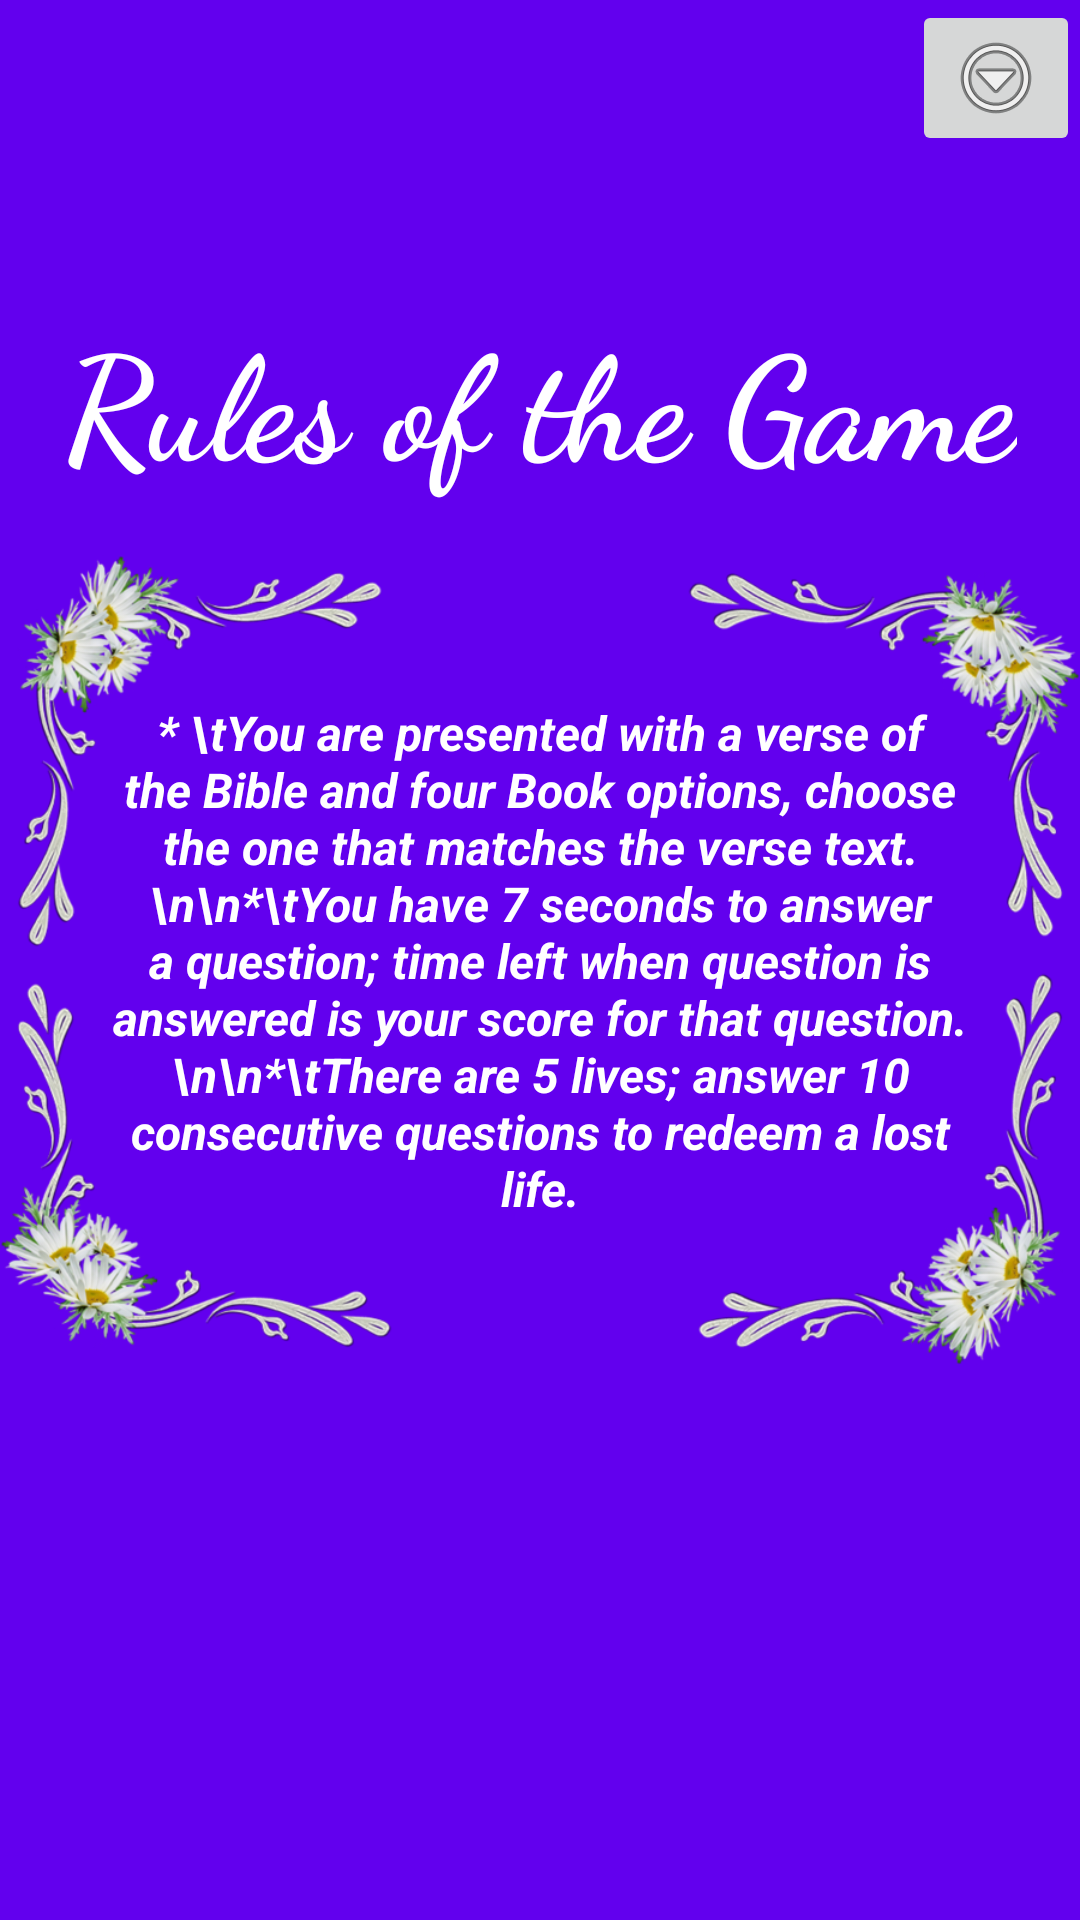

Icons on this 1080*1920 Android screen, each with the point to tap as point (x, y):
more: point (996, 78)
